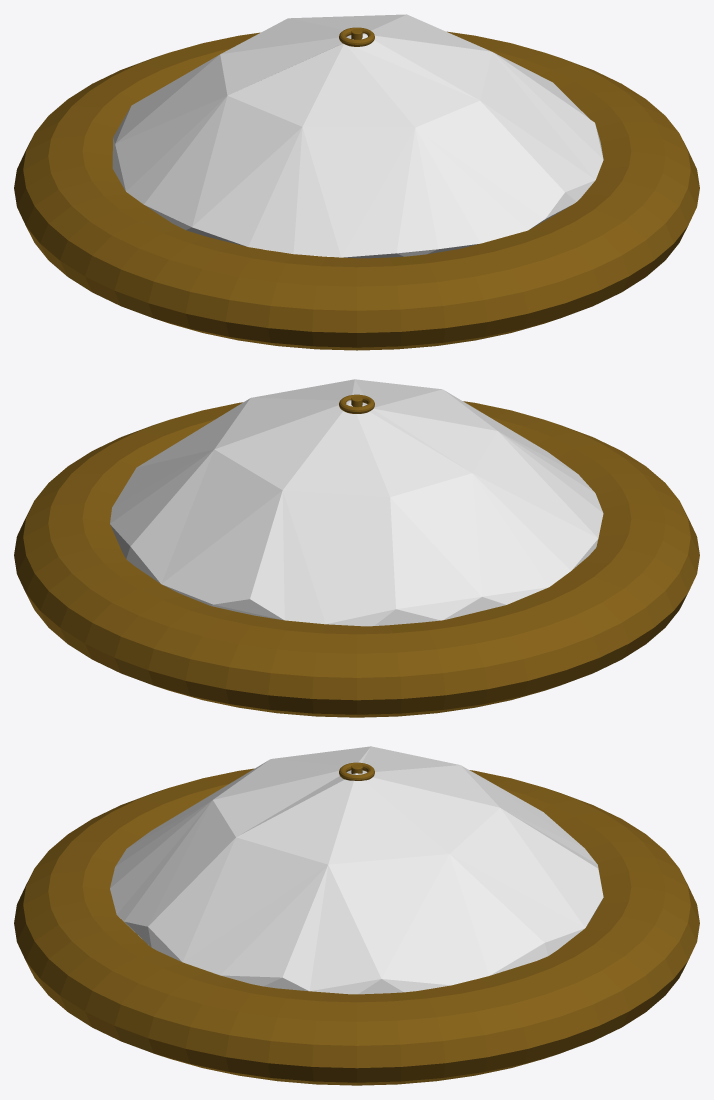
File: booblamp.fbx
3 views of the same model, one above another, from view 1: azimuth 30°, elevation 25°; view 2: azimuth 150°, elevation 25°; view 3: azimuth 270°, elevation 25° (orthographic).
Visible parts, largest first — view 1: Cone, Torus.001; view 2: Cone, Torus.001; view 3: Cone, Torus.001.
Boxes of the visible parts, bbox=[...] form: Cone: bbox=[112, 14, 603, 258]; Torus.001: bbox=[14, 31, 699, 350]; Cone: bbox=[110, 379, 603, 626]; Torus.001: bbox=[14, 401, 699, 717]; Cone: bbox=[110, 746, 603, 994]; Torus.001: bbox=[14, 768, 699, 1085].
Bounding box in the file's own units: 250 × 77.94 × 250.
